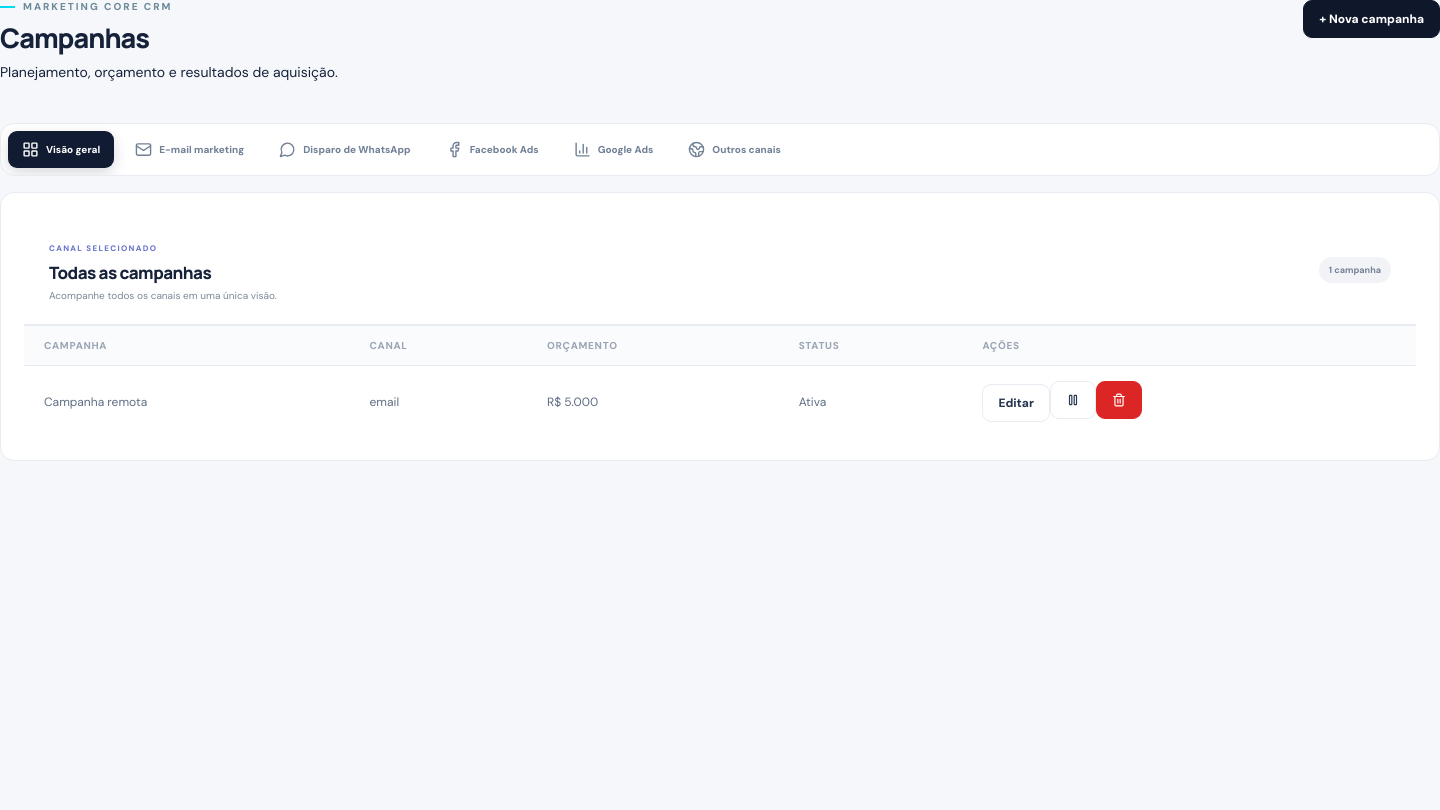
Test: authenticated pages use only the remote snapshot › keeps the campaign editor open and reports remote failures
Click the button "+ Nova campanha": (1372, 19) [1303,0,1439,38]
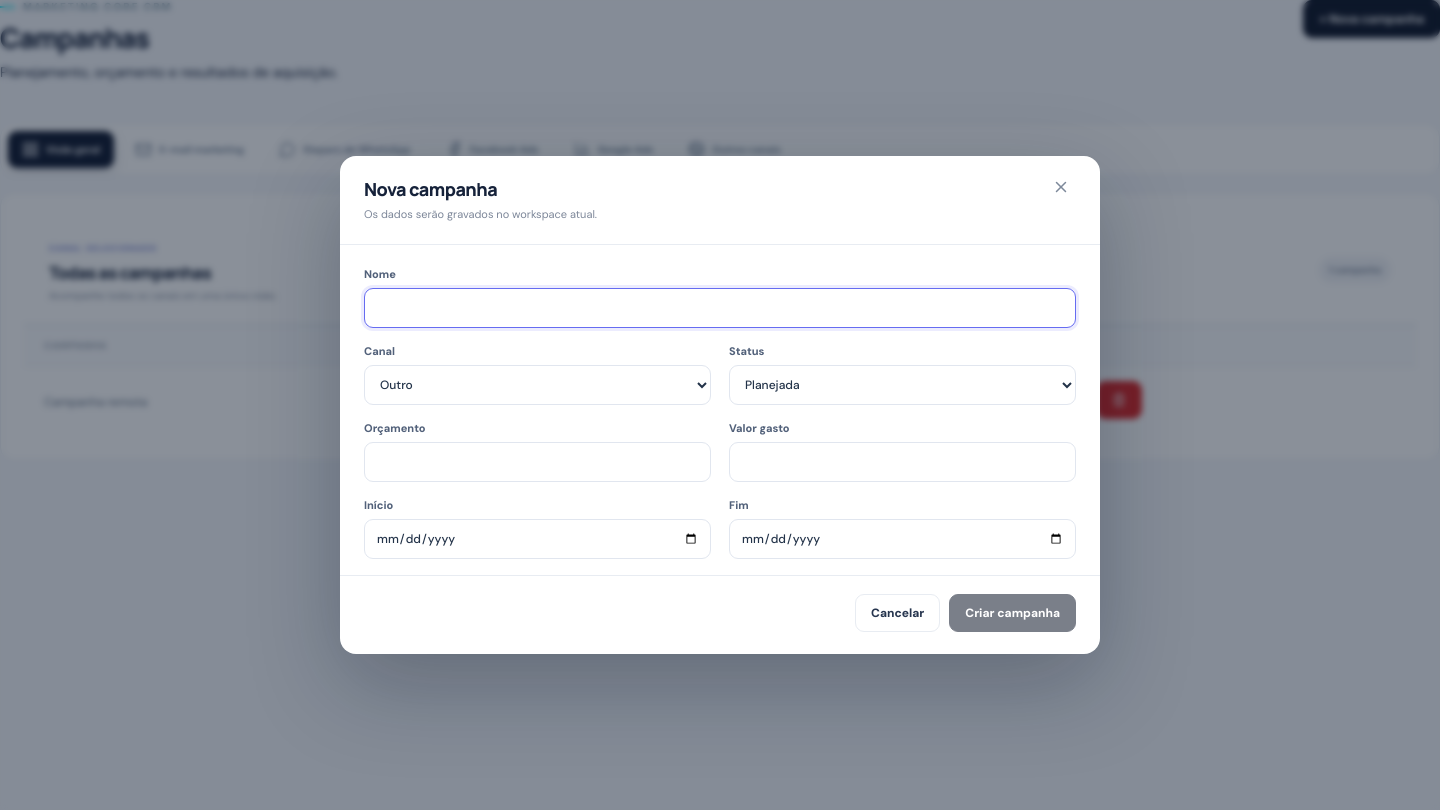
In the field named "Nome da campanha": (720, 308) [364,288,1076,328], type "Bloqueada"
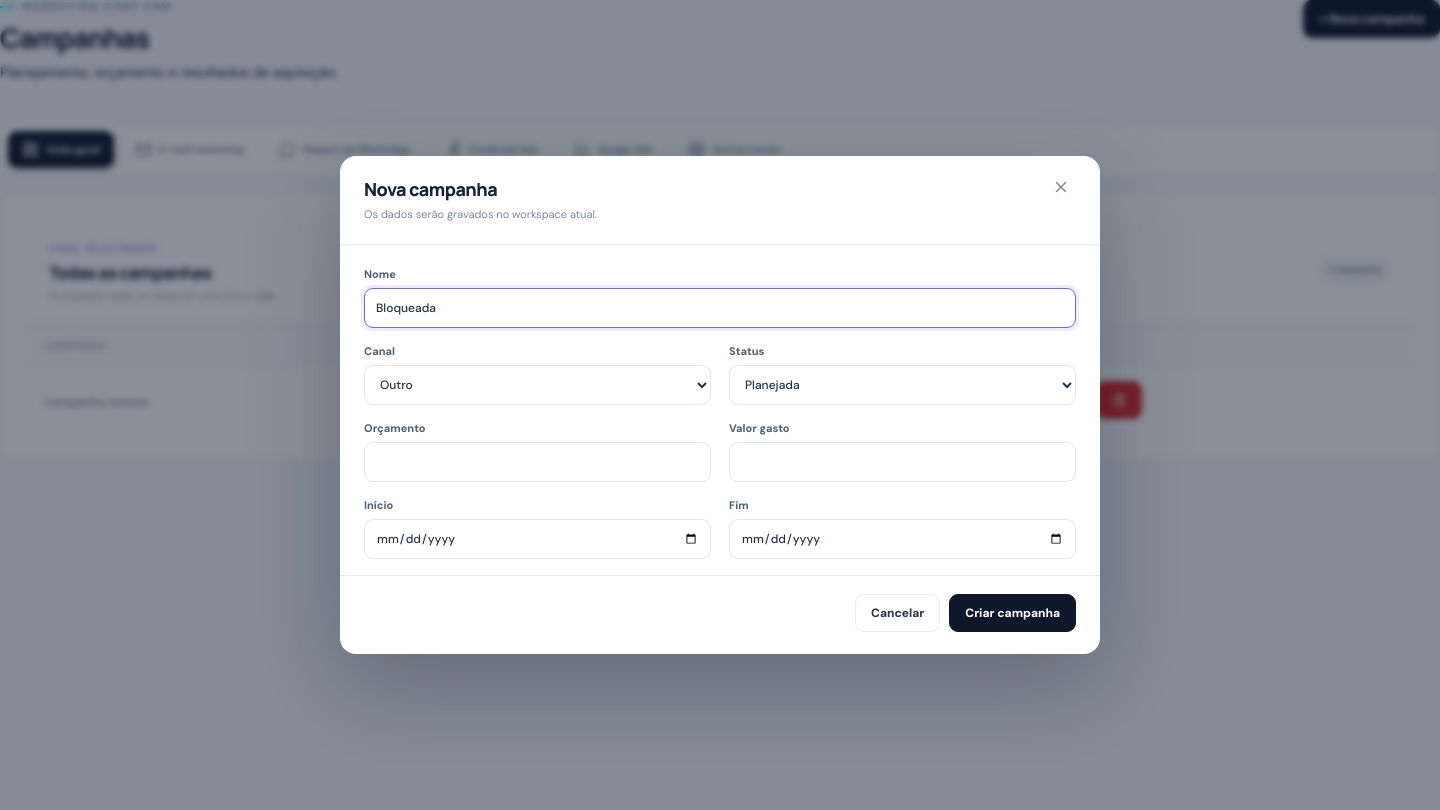
Click the button "Criar campanha": (1013, 613) [949,594,1076,632]
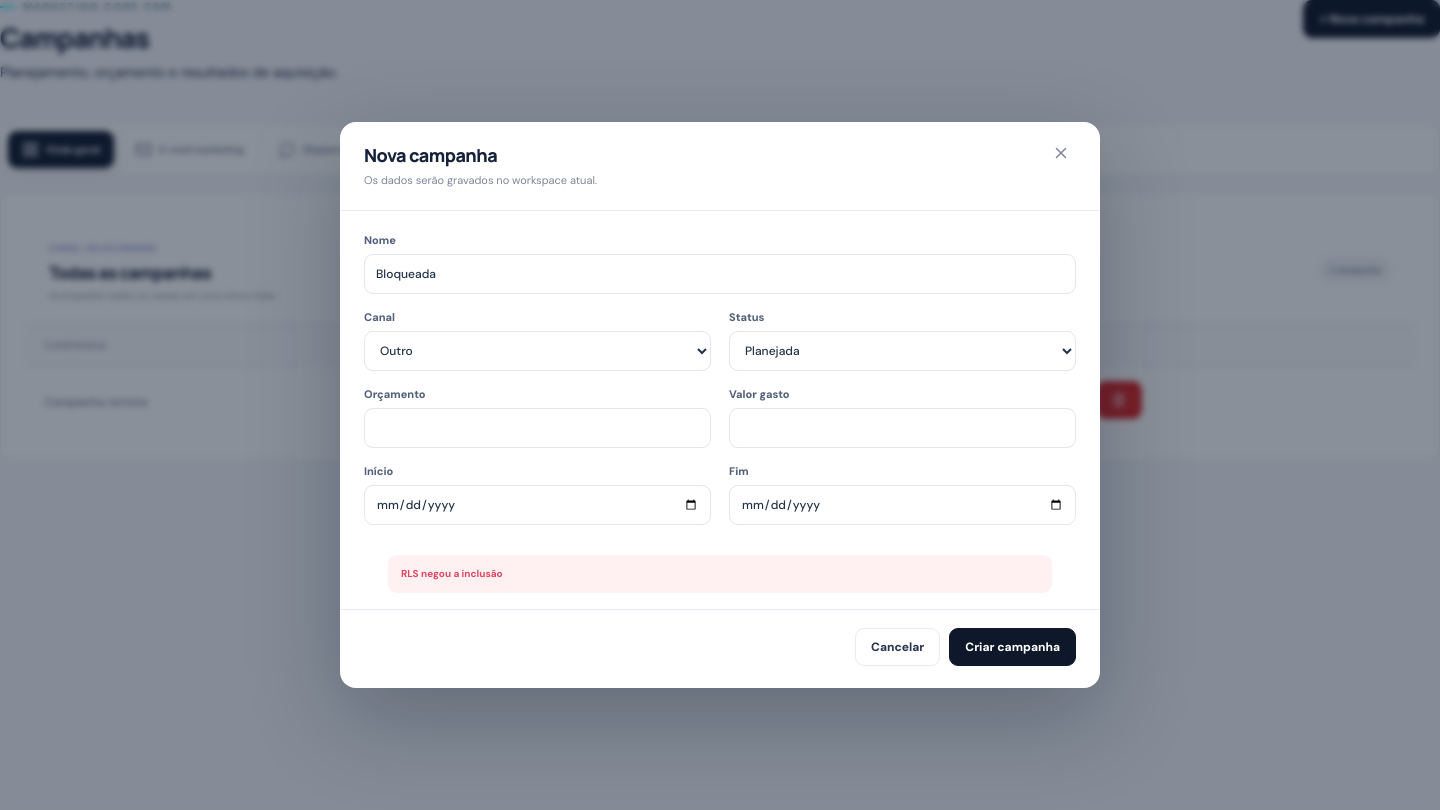
Check: the dialog "Nova campanha" is shown, box [340,122,1100,688]
Check: the message reads "RLS negou a inclusão", box [401,567,503,580]
